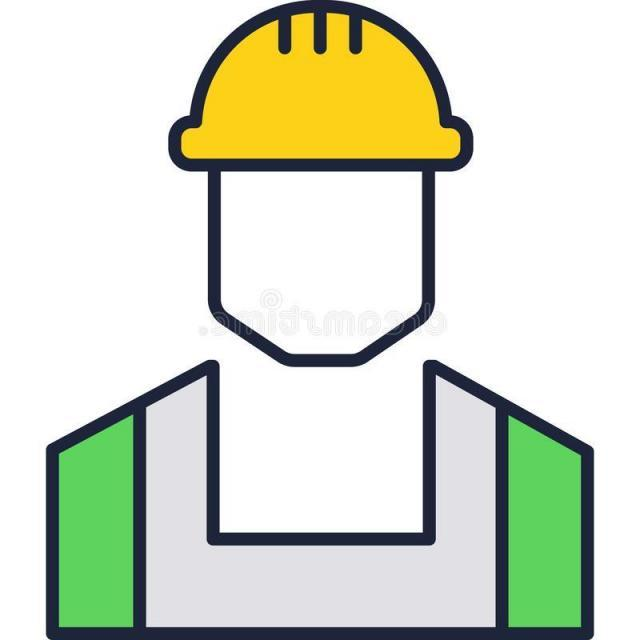safety_helmet: (172, 5, 477, 171)
